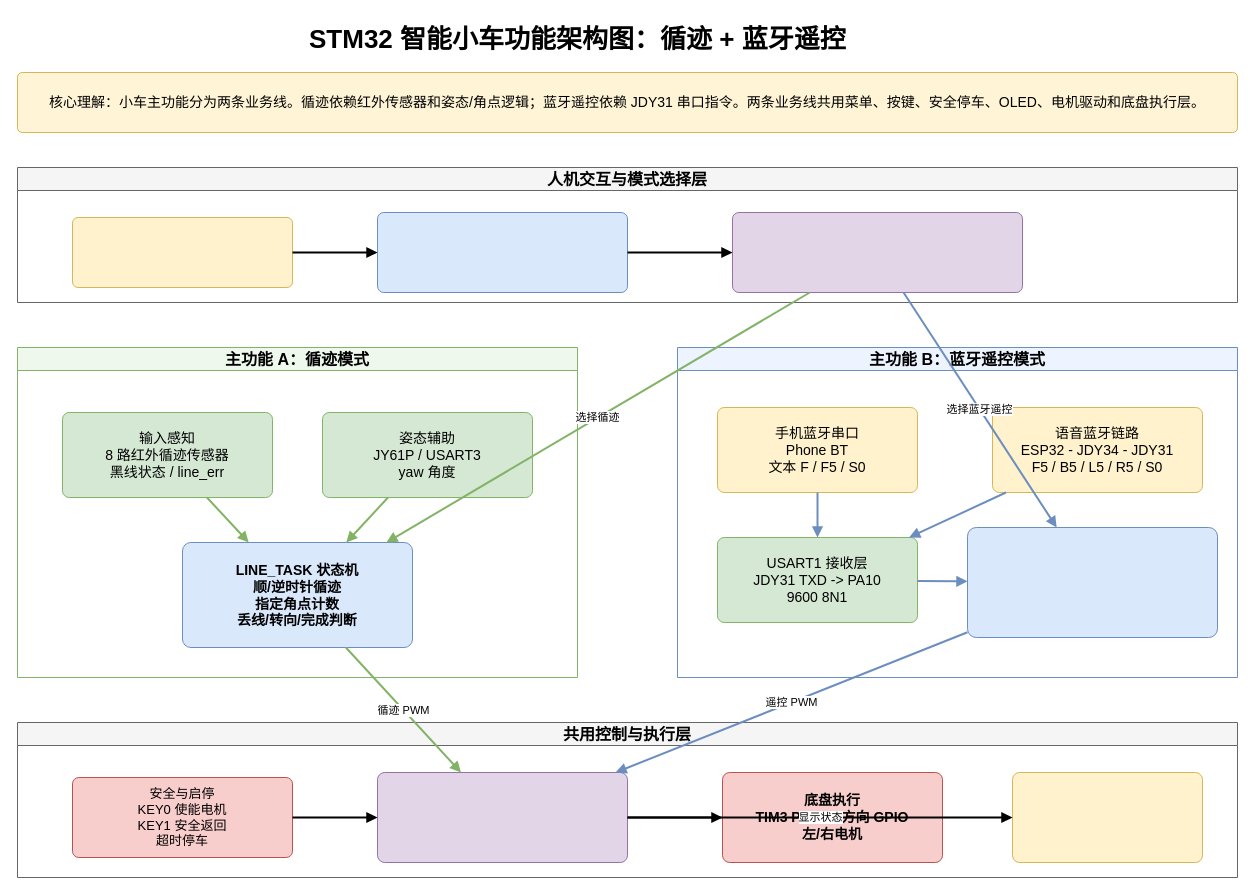
Image size: 1255x895. Some labels were removed from this diagram. The shapes that lost their labels are listed below. From the top down, each one's centre as x and y in pixels, then its label:
the point at 182,252: 按键输入 KEY0：切换/启停 KEY1：确认/返回
the point at 502,252: OLED 菜单系统 Line Mode / BT Mode 选择具体运行模式
the point at 877,252: 运行模式 Line CW / Line CCW / Line Target Phone BT / Voice BT
the point at 1092,582: BT_REMOTE 解析与遥控状态 解析 F/B/L/R/S + 档位 维护 Cmd / Raw / left_pwm / right_pwm 2 秒无数据停车
the point at 502,817: 运动控制输出 循迹修正 / 遥控指令 统一得到 left_pwm / right_pwm
the point at 1107,817: 状态显示 模式 / Cmd / Raw Left / Right / 循迹状态
